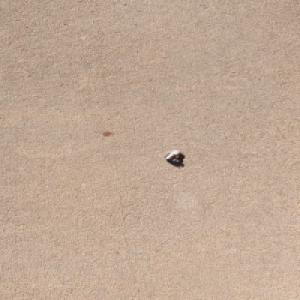MetalPart: (163, 149, 181, 163)
